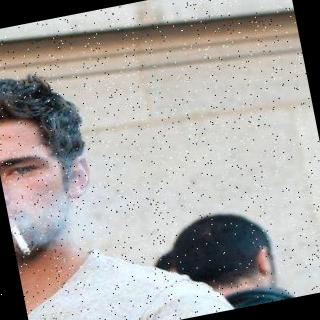smoke: (11, 166, 147, 254)
